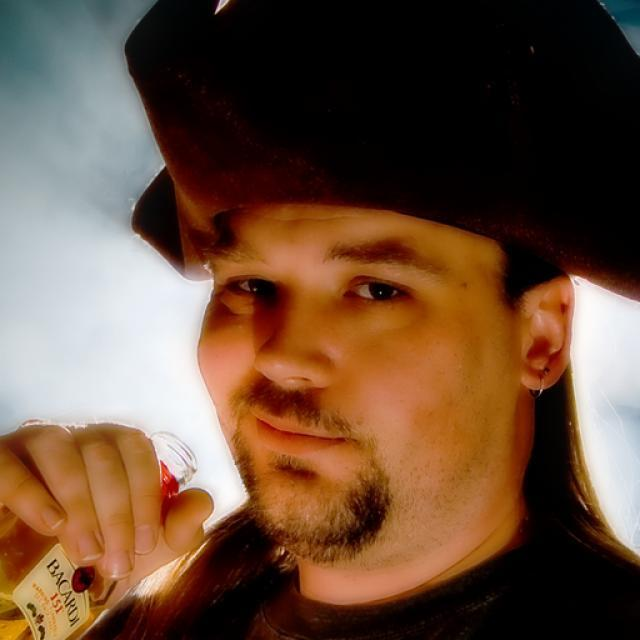neutral: (194, 197, 524, 565)
